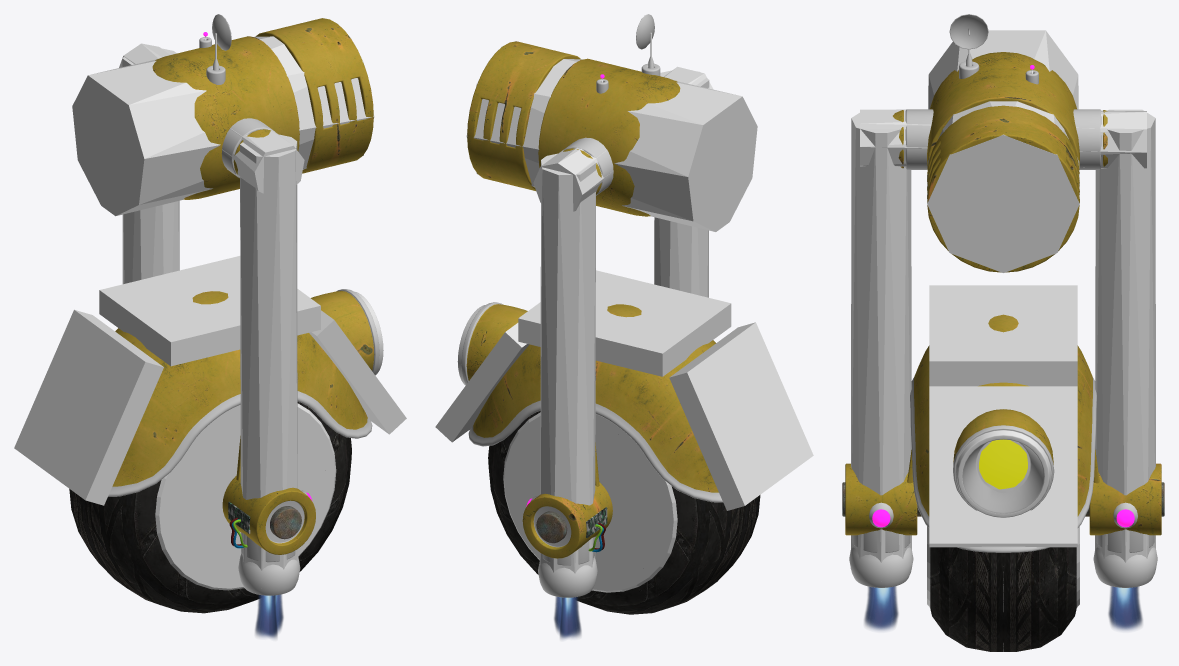
3 views of the same model, side by side, from view 1: azimuth 30°, elevation 25°; view 2: azimuth 150°, elevation 25°; view 3: azimuth 270°, elevation 25° (orthographic). The views are drawn at different scales.
Visible parts, largest first — view 1: RobotMudflapShape, RobotHeadShape, RobotRightLegShape, RobotMudflap, RobotTyre_Shape, Tyre, BackHead, RobotFace, Robot_Legs, RobotLeftLegShape, RobotHeadlightFrame, Connector (+2 smaller); view 2: RobotMudflapShape, RobotHeadShape, RobotLeftLegShape, RobotMudflap, RobotTyre_Shape, Tyre, BackHead, RobotFace, Robot_Legs, RobotRightLegShape, RobotHeadlightFrame, Connector (+2 smaller); view 3: RobotMudflapShape, RobotHeadShape, RobotLeftLegShape, RobotRightLegShape, Tyre, Robot_Legs, RobotHeadlightFrame, BackHead, RobotMudflap, RobotFace, RobotHeadlightGlass, Connector (+5 smaller).
Boxes of the visible parts, x1=… form: RobotMudflapShape: x1=14, y1=256, x2=406, y2=505; RobotHeadShape: x1=72, y1=23, x2=374, y2=216; RobotRightLegShape: x1=240, y1=134, x2=297, y2=570; RobotMudflap: x1=108, y1=291, x2=372, y2=496; RobotTyre_Shape: x1=155, y1=403, x2=336, y2=590; Tyre: x1=69, y1=401, x2=351, y2=613; BackHead: x1=152, y1=36, x2=299, y2=199; RobotFace: x1=255, y1=18, x2=373, y2=173; Robot_Legs: x1=222, y1=476, x2=315, y2=595; RobotLeftLegShape: x1=122, y1=48, x2=179, y2=284; RobotHeadlightFrame: x1=311, y1=289, x2=383, y2=375; Connector: x1=221, y1=118, x2=274, y2=178; RobotMudflapShape: x1=435, y1=270, x2=813, y2=510; RobotHeadShape: x1=466, y1=46, x2=757, y2=231; RobotLeftLegShape: x1=540, y1=153, x2=595, y2=573; RobotMudflap: x1=468, y1=304, x2=722, y2=502; RobotTyre_Shape: x1=503, y1=412, x2=677, y2=592; Tyre: x1=488, y1=410, x2=760, y2=614; BackHead: x1=538, y1=58, x2=680, y2=216; RobotFace: x1=467, y1=41, x2=580, y2=190; Robot_Legs: x1=522, y1=482, x2=612, y2=597; RobotRightLegShape: x1=654, y1=70, x2=709, y2=297; RobotHeadlightFrame: x1=457, y1=302, x2=527, y2=385; Connector: x1=563, y1=137, x2=613, y2=194; RobotMudflapShape: x1=929, y1=285, x2=1077, y2=547; RobotHeadShape: x1=860, y1=30, x2=1146, y2=272; RobotLeftLegShape: x1=1095, y1=109, x2=1156, y2=568; RobotRightLegShape: x1=850, y1=113, x2=911, y2=568; Tyre: x1=930, y1=547, x2=1076, y2=651; Robot_Legs: x1=845, y1=463, x2=1161, y2=587; RobotHeadlightFrame: x1=953, y1=409, x2=1054, y2=517; BackHead: x1=927, y1=52, x2=1079, y2=168; RobotMudflap: x1=910, y1=314, x2=1096, y2=552; RobotFace: x1=927, y1=105, x2=1079, y2=272; RobotHeadlightGlass: x1=962, y1=439, x2=1044, y2=513; Connector: x1=905, y1=109, x2=1101, y2=169.
Size of the model in its own units: 0.6309 by 1.13 by 0.5276.
